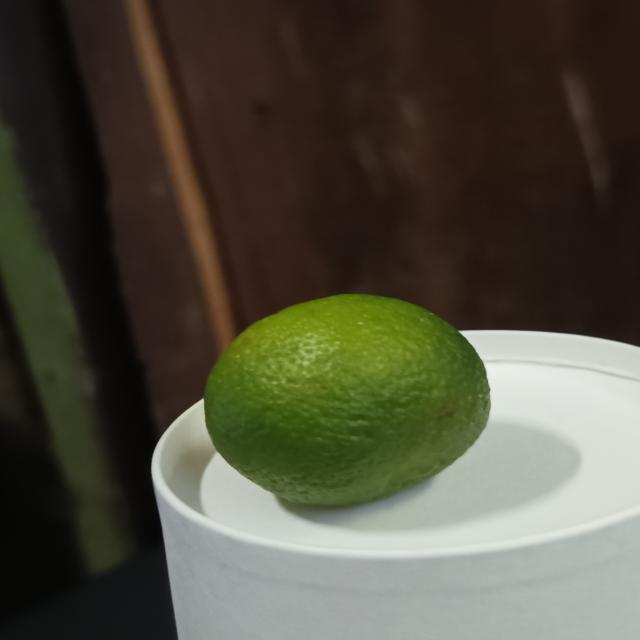heathy: (203, 289, 496, 501)
